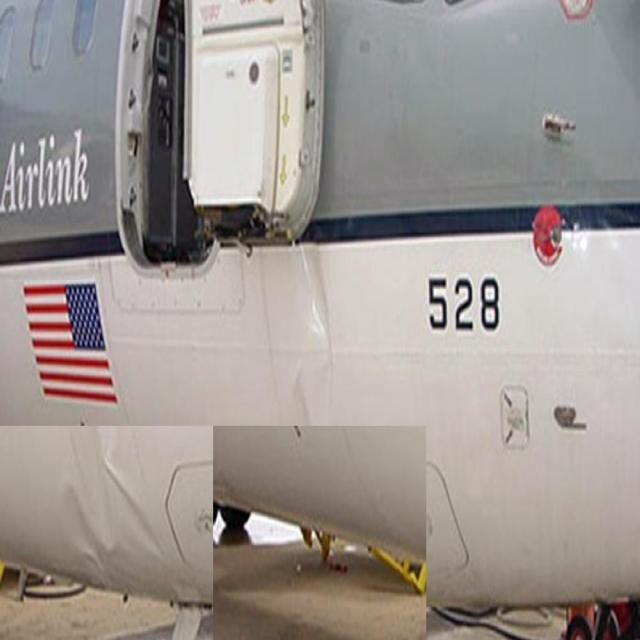dent: (53, 425, 169, 598), (285, 252, 340, 422)
